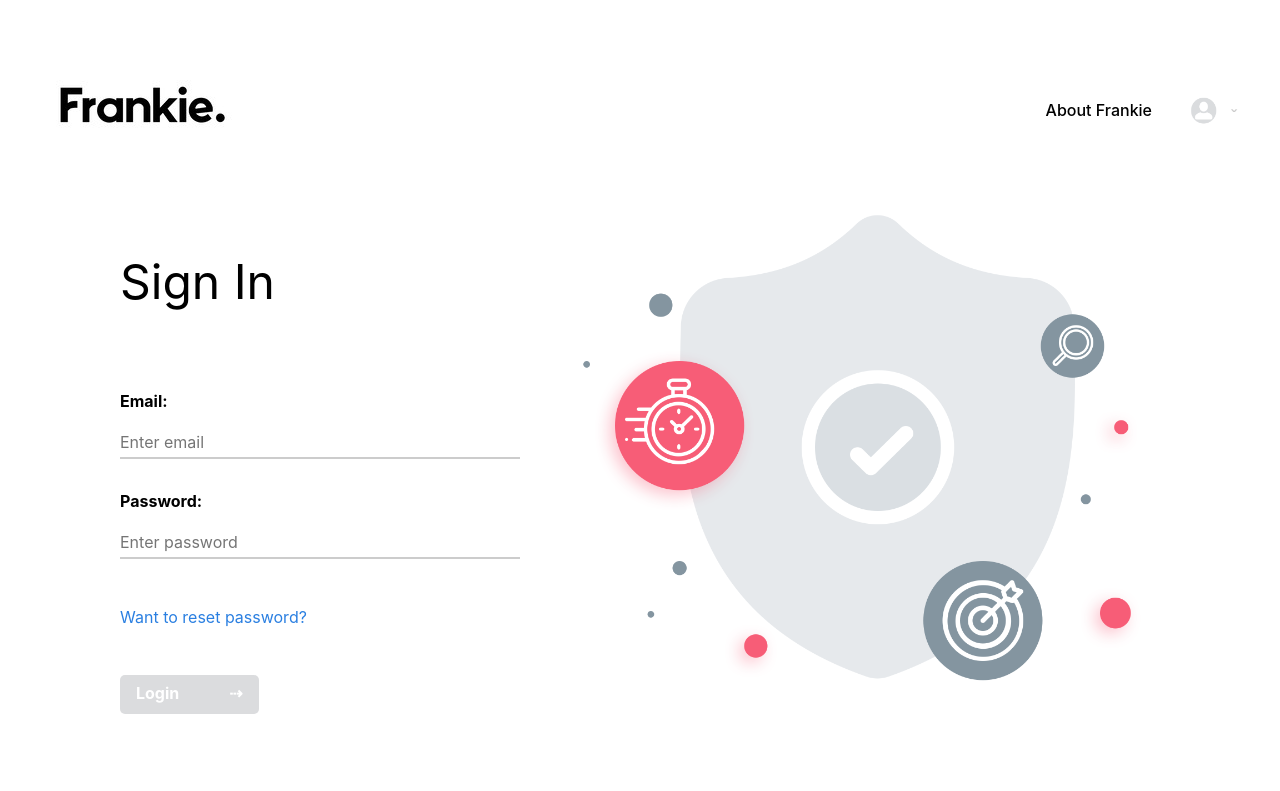
Scenario: Navigation › .submit() - submit a form error occurred
In the field labelled "Email:": coordinates (320, 443) [120,427,520,459], type "eve.holt@reqres"
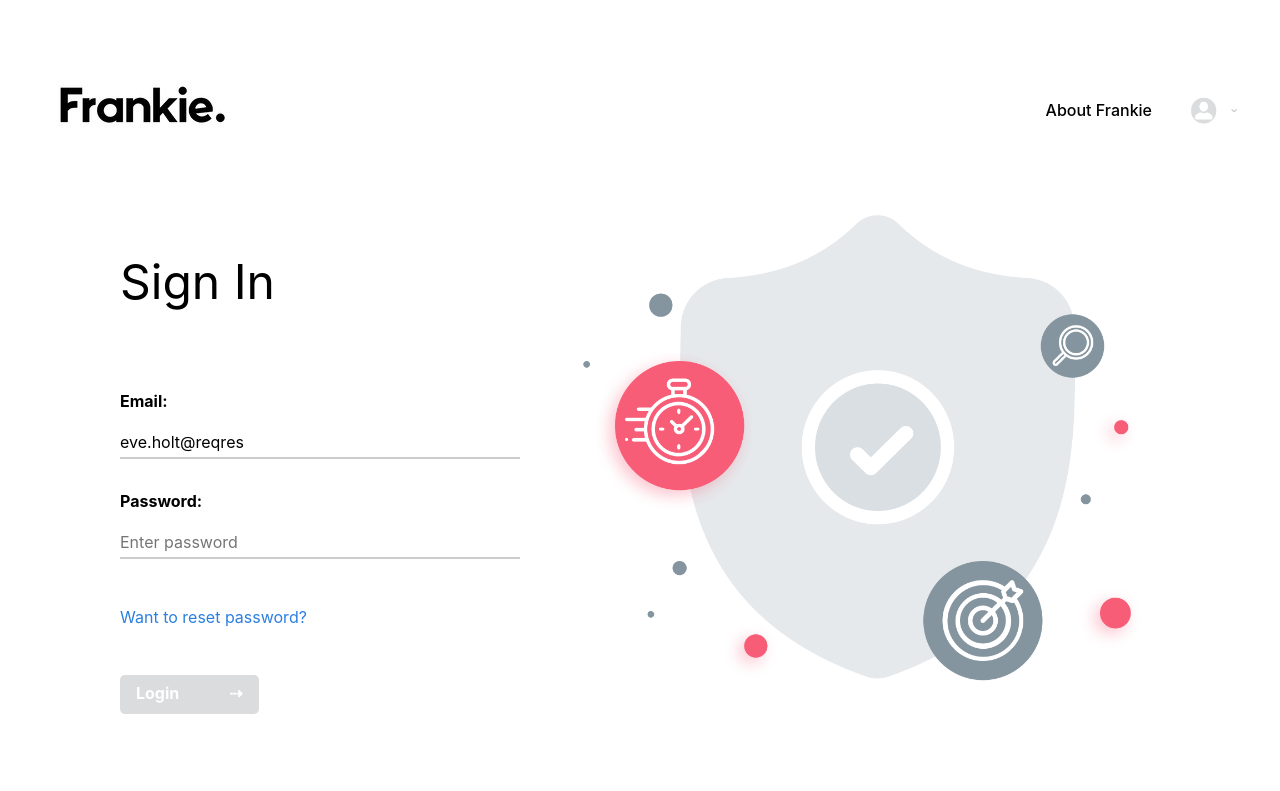
In the password field labelled "Password:": coordinates (320, 543) [120,527,520,559], type "cityslicka"
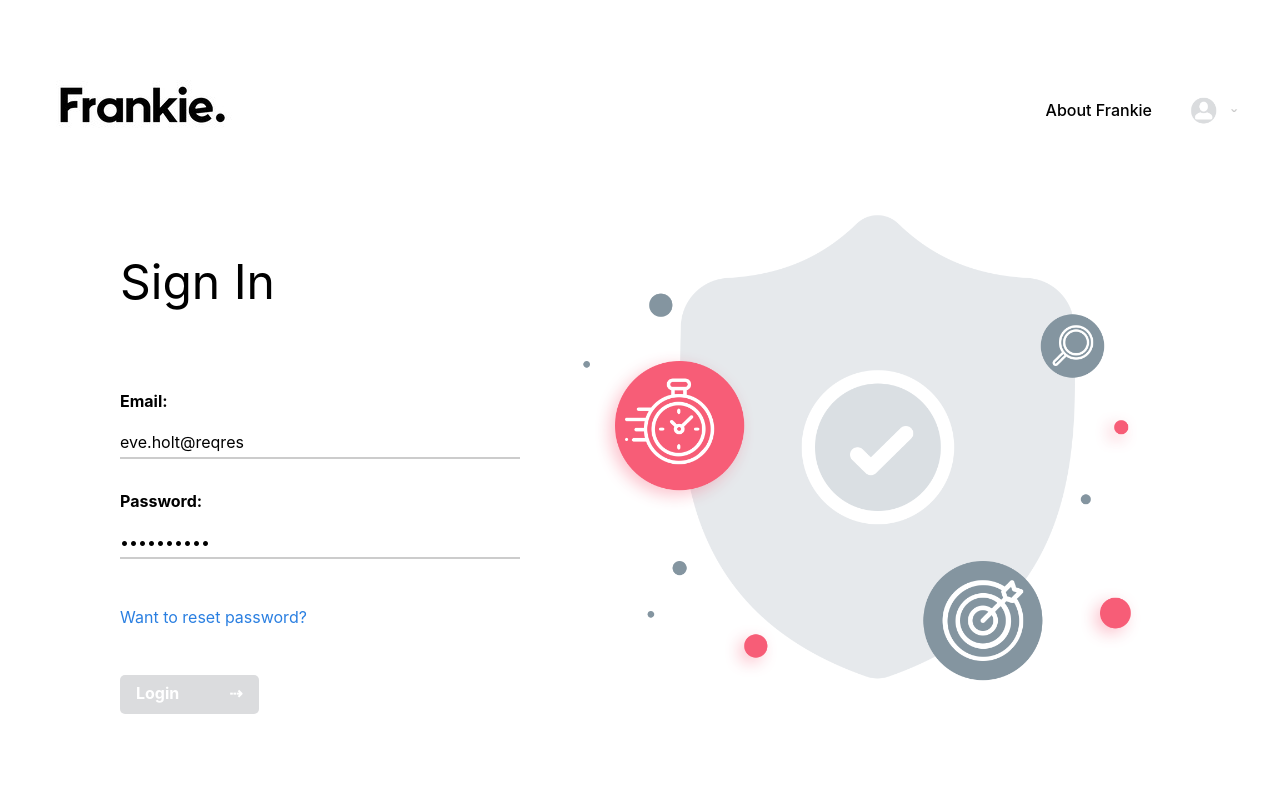
Click the button "Login": coordinates (190, 695) [120,675,259,714]
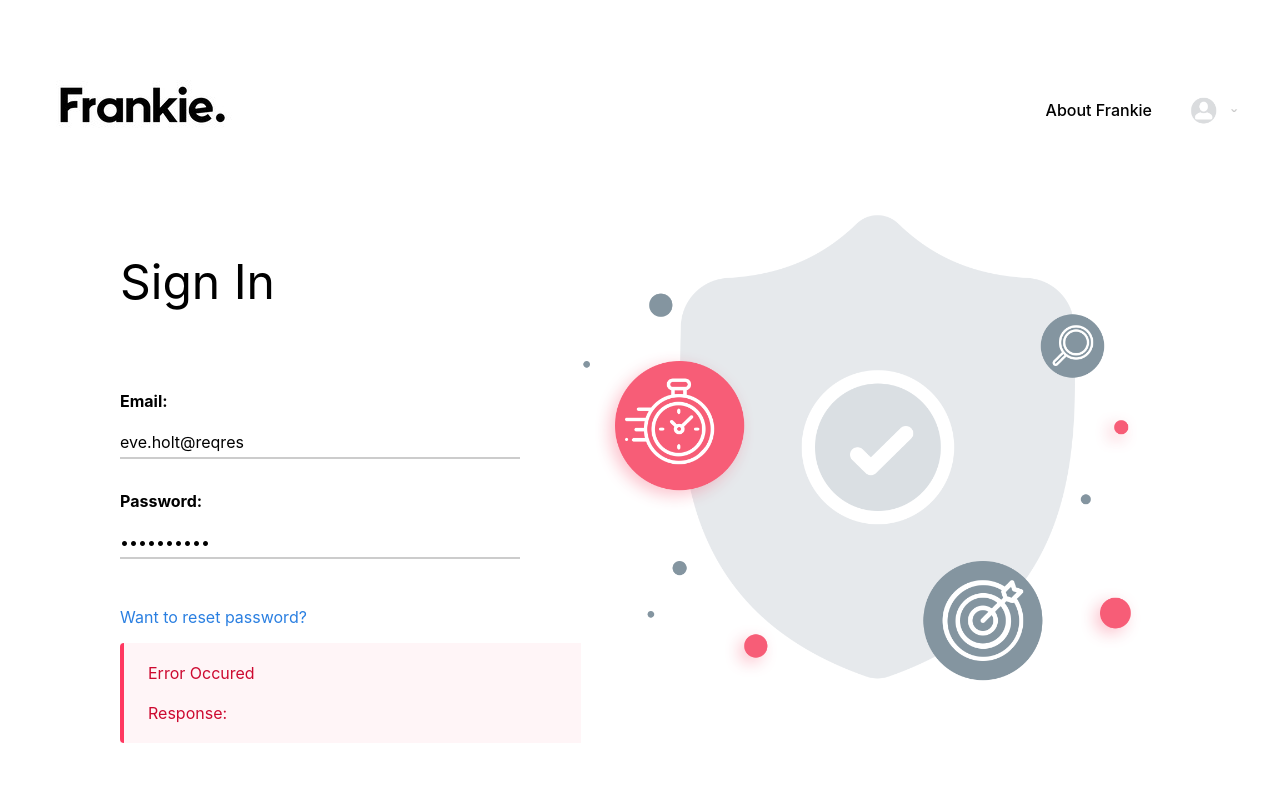
Now the text "Error Occured" is shown, box [148,663,255,683]
